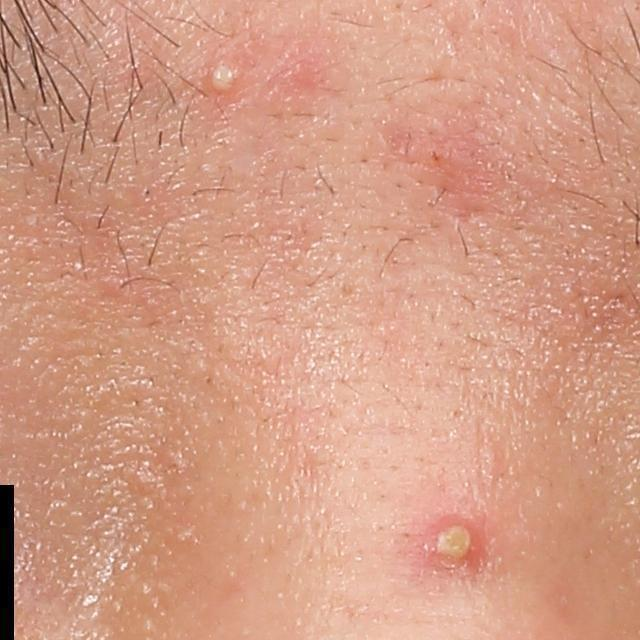pustule: (418, 518, 486, 583), (201, 52, 242, 102)
